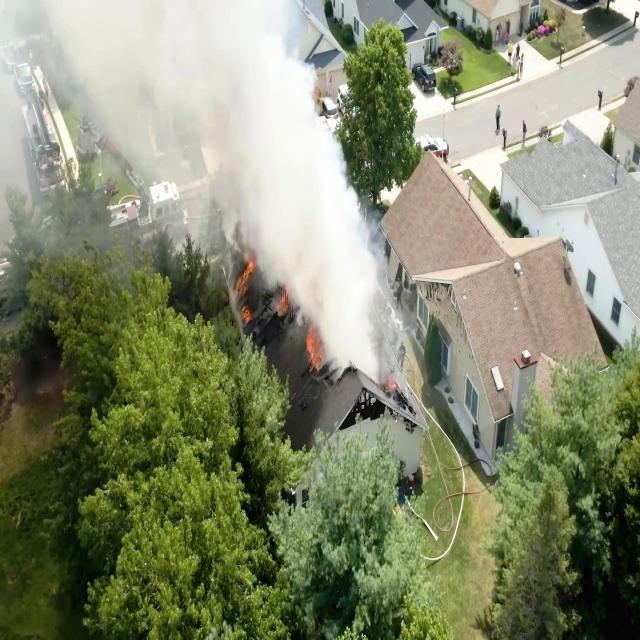Smoke: (72, 0, 258, 158), (247, 38, 304, 258), (282, 139, 344, 316)
